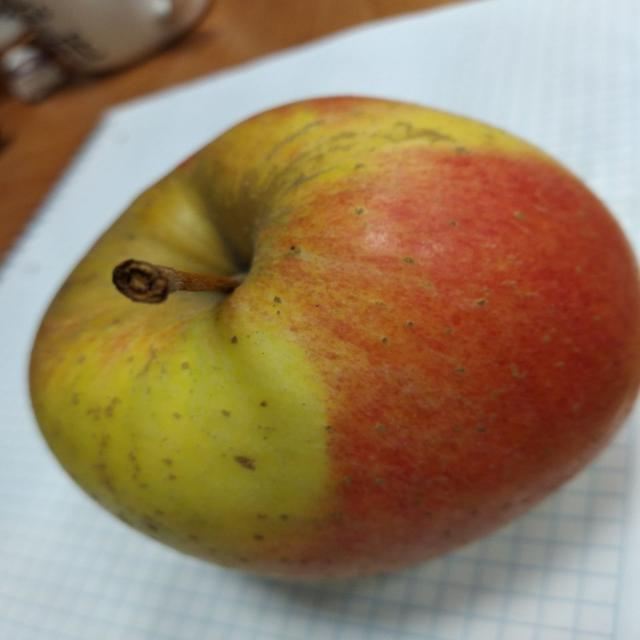Fresh Apple: (38, 92, 640, 626)
